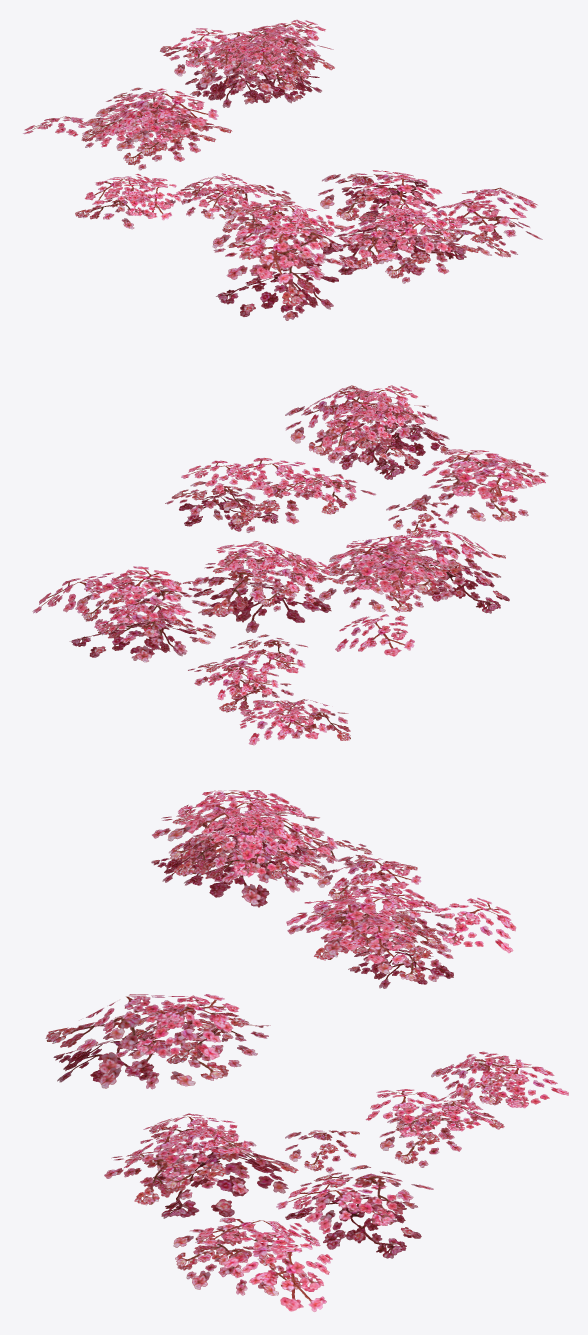
Rendered from S_Tree_Red002_A4.FBX.
3 views of the same model, one above another, from view 1: azimuth 30°, elevation 25°; view 2: azimuth 150°, elevation 25°; view 3: azimuth 270°, elevation 25° (orthographic). The views are drawn at different scales.
Visible parts, largest first — view 1: S_Tree_Red002_A4; view 2: S_Tree_Red002_A4; view 3: S_Tree_Red002_A4.
Boxes of the visible parts, <box> form: S_Tree_Red002_A4: <box>23,19,542,320</box>; S_Tree_Red002_A4: <box>32,385,548,745</box>; S_Tree_Red002_A4: <box>45,790,568,1311</box>.
Size of the model in its own units: 632 by 337 by 516.
